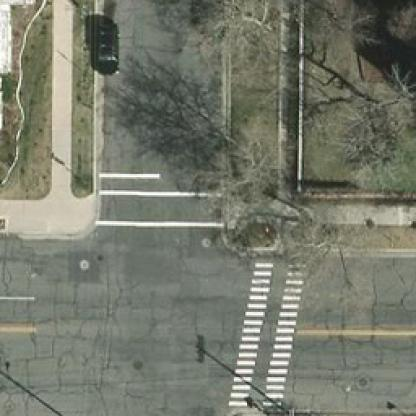car: (90, 20, 120, 74)
